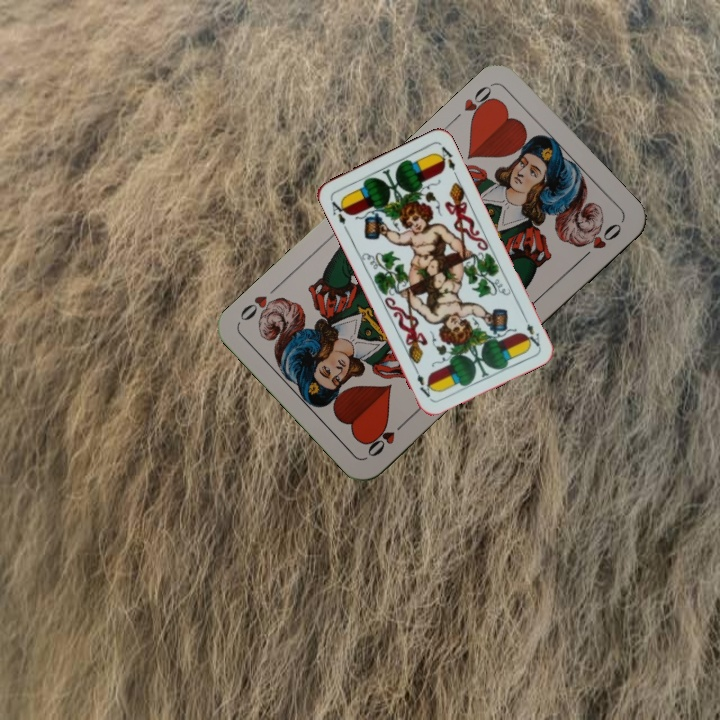EA: (519, 311, 543, 349), (326, 195, 351, 227)
HO: (362, 415, 411, 460), (460, 80, 499, 127)
